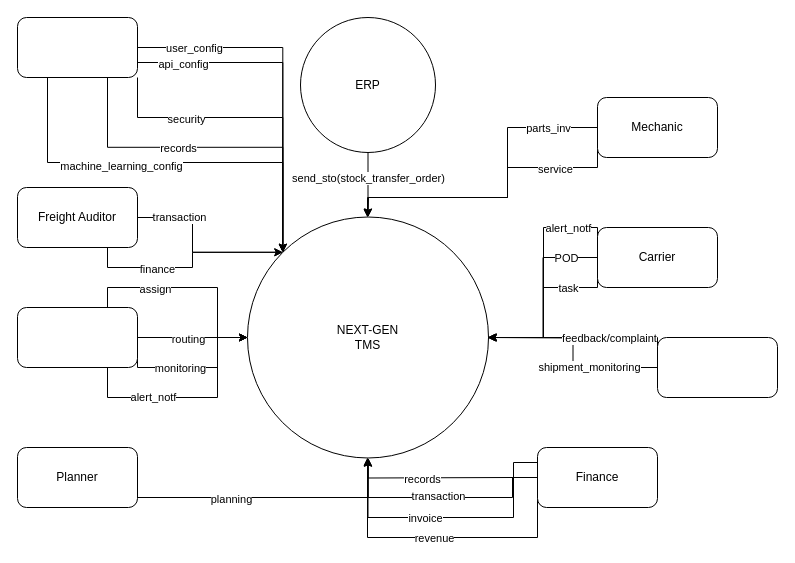
The diagram is 795 pixels wide and 563 high, and some of its shapes have lost their labels. The centre of each missing label's shape, as x and y in pixels:
Dispatcher: pixel 77 337
Store Associate: pixel 717 367
System Admin: pixel 77 47
